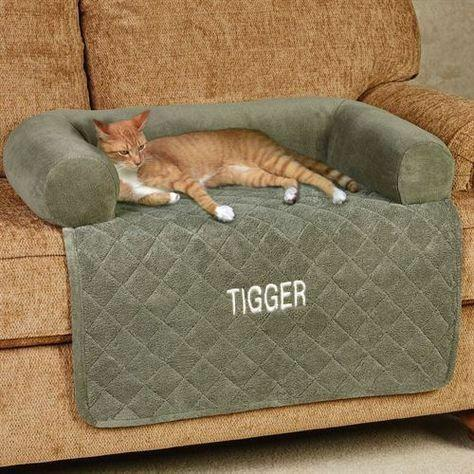kedo: (92, 110, 357, 222)
